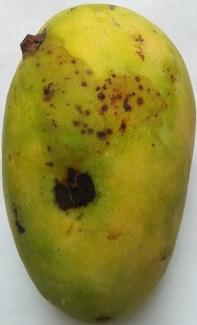PartiallyRipe: (0, 1, 197, 325)
